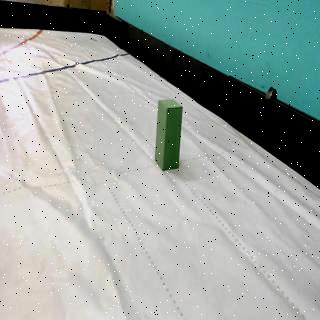greenbox: (154, 98, 184, 172)
